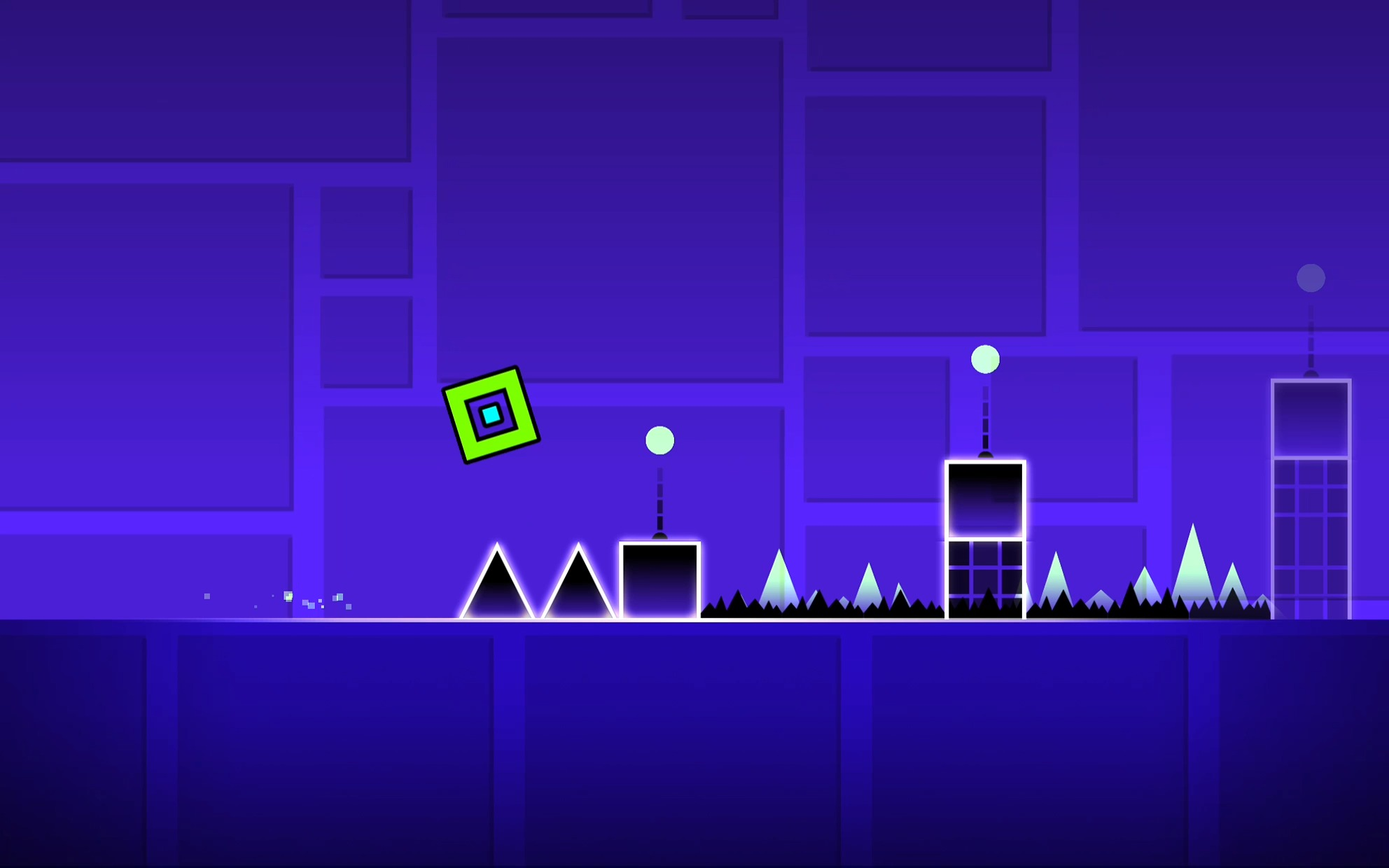Block: (617, 538, 702, 618), (944, 459, 1027, 540), (1273, 378, 1348, 457)
Block2: (1271, 457, 1352, 625), (947, 539, 1026, 618)
Player: (441, 366, 540, 463)
Spike: (459, 543, 534, 618), (541, 543, 615, 618)
Spike3: (1028, 592, 1271, 620), (700, 592, 944, 618), (952, 598, 1021, 618)
